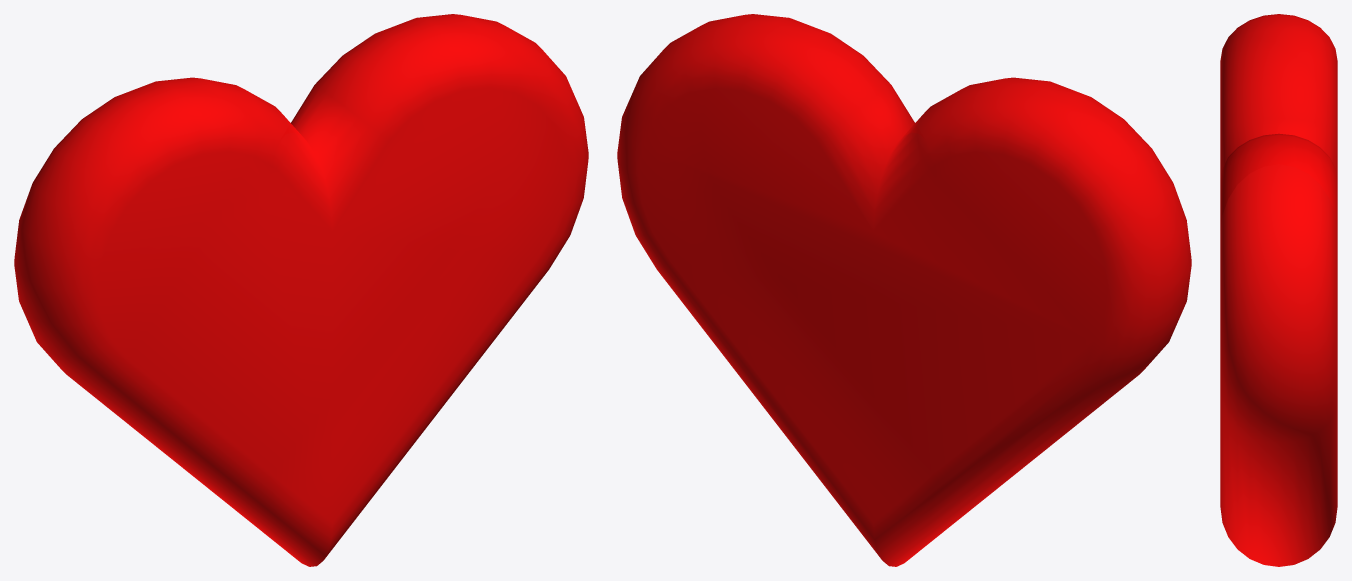
File: Heart.obj
3 views of the same model, side by side, from view 1: azimuth 30°, elevation 25°; view 2: azimuth 150°, elevation 25°; view 3: azimuth 270°, elevation 25° (orthographic). The views are drawn at different scales.
Parts seen in each view (by area): view 1: Mesh1 Serce1 Component1 Model; view 2: Mesh1 Serce1 Component1 Model; view 3: Mesh1 Serce1 Component1 Model.
Boxes of the visible parts, left/top/right/bottom form: Mesh1 Serce1 Component1 Model: left=14, top=14, right=588, bottom=566; Mesh1 Serce1 Component1 Model: left=617, top=14, right=1191, bottom=566; Mesh1 Serce1 Component1 Model: left=1220, top=14, right=1337, bottom=566.
Size of the model in its own units: 96.58 by 84.49 by 18.72.
